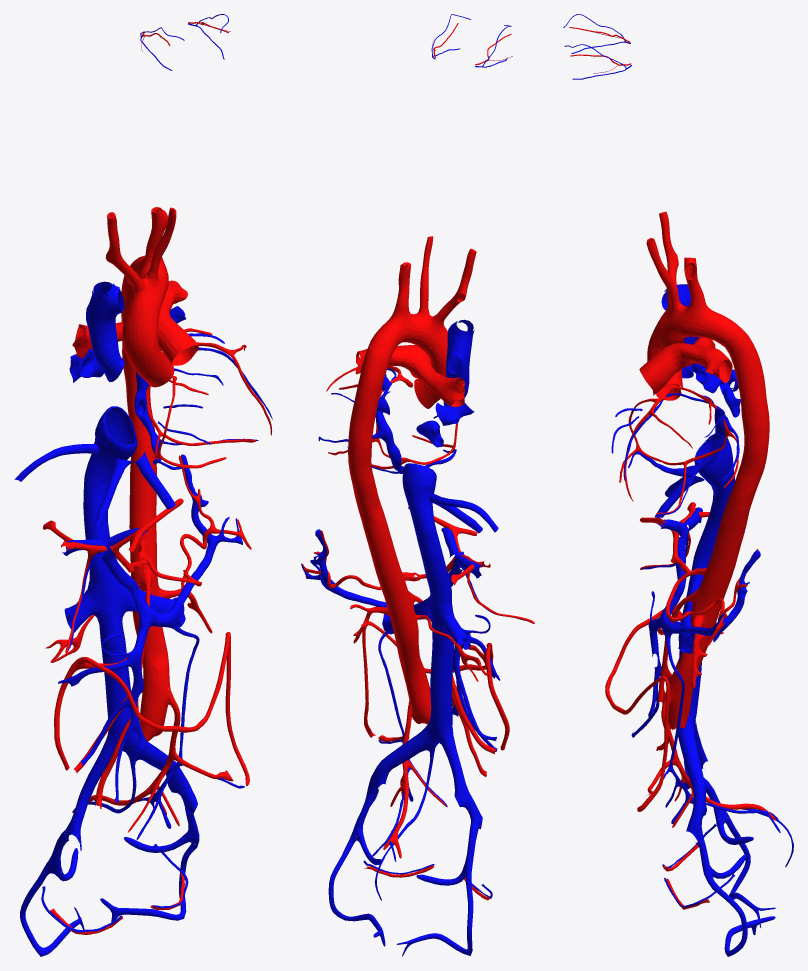
File: VH_F_Blood_Vasculature_0.2.glb
3 renders of one model, left to right at view 1: azimuth 30°, elevation 25°; view 2: azimuth 150°, elevation 25°; view 3: azimuth 270°, elevation 25°, orthographic. The views are drawn at different scales.
Visible parts, largest first — view 1: VH_F_inferior_vena_cava_b, VH_F_descending_aorta_b, VH_F_superior_vena_cava, VH_F_marginal_artery_of_Drummond, VH_F_ascending_aorta, VH_F_inferior_vena_cava_a, VH_F_splenic_vein, VH_F_aortic_arch, VH_F_left_common_iliac_vein, VH_F_pulmonary_trunk, VH_F_descending_aorta_a, VH_F_right_common_iliac_vein (+14 smaller); view 2: VH_F_descending_aorta_b, VH_F_inferior_vena_cava_b, VH_F_descending_aorta_a, VH_F_aortic_arch, VH_F_inferior_vena_cava_a, VH_F_left_common_iliac_vein, VH_F_superior_vena_cava, VH_F_marginal_artery_of_Drummond, VH_F_pulmonary_artery_R, VH_F_right_common_iliac_vein, VH_F_splenic_vein, VH_F_ascending_aorta (+6 smaller); view 3: VH_F_descending_aorta_b, VH_F_descending_aorta_a, VH_F_aortic_arch, VH_F_inferior_vena_cava_b, VH_F_left_common_iliac_vein, VH_F_marginal_artery_of_Drummond, VH_F_splenic_vein, VH_F_pulmonary_artery_L, VH_F_inferior_vena_cava_a, VH_F_pulmonary_trunk, VH_F_splenic_artery, VH_F_ascending_aorta (+11 smaller).
Part boxes in pixels (x1,y1,x2,y2): VH_F_inferior_vena_cava_b: [83, 462, 136, 751]; VH_F_descending_aorta_b: [129, 443, 170, 741]; VH_F_superior_vena_cava: [86, 281, 124, 381]; VH_F_marginal_artery_of_Drummond: [54, 632, 249, 785]; VH_F_ascending_aorta: [122, 312, 174, 387]; VH_F_inferior_vena_cava_a: [88, 406, 137, 475]; VH_F_splenic_vein: [140, 454, 242, 628]; VH_F_aortic_arch: [125, 255, 168, 315]; VH_F_left_common_iliac_vein: [125, 732, 197, 814]; VH_F_pulmonary_trunk: [157, 308, 199, 365]; VH_F_descending_aorta_a: [121, 275, 154, 443]; VH_F_right_common_iliac_vein: [64, 735, 116, 842]; VH_F_descending_aorta_b: [359, 504, 431, 724]; VH_F_inferior_vena_cava_b: [412, 516, 454, 744]; VH_F_descending_aorta_a: [348, 346, 389, 514]; VH_F_aortic_arch: [368, 311, 447, 360]; VH_F_inferior_vena_cava_a: [402, 463, 436, 517]; VH_F_left_common_iliac_vein: [364, 723, 434, 805]; VH_F_superior_vena_cava: [443, 319, 474, 405]; VH_F_marginal_artery_of_Drummond: [362, 621, 509, 750]; VH_F_pulmonary_artery_R: [413, 356, 465, 407]; VH_F_right_common_iliac_vein: [441, 728, 482, 829]; VH_F_splenic_vein: [301, 529, 386, 607]; VH_F_ascending_aorta: [414, 346, 447, 408]; VH_F_descending_aorta_b: [668, 497, 750, 729]; VH_F_descending_aorta_a: [723, 331, 769, 508]; VH_F_aortic_arch: [657, 303, 744, 345]; VH_F_inferior_vena_cava_b: [679, 480, 735, 725]; VH_F_left_common_iliac_vein: [678, 717, 706, 842]; VH_F_marginal_artery_of_Drummond: [605, 608, 682, 811]; VH_F_splenic_vein: [660, 550, 760, 641]; VH_F_pulmonary_artery_L: [676, 343, 732, 383]; VH_F_inferior_vena_cava_a: [694, 434, 734, 492]; VH_F_pulmonary_trunk: [639, 343, 693, 394]; VH_F_splenic_artery: [665, 549, 757, 646]; VH_F_ascending_aorta: [647, 323, 684, 400].
Size of the model in its own units: 0.1927 by 0.7989 by 0.1848.
